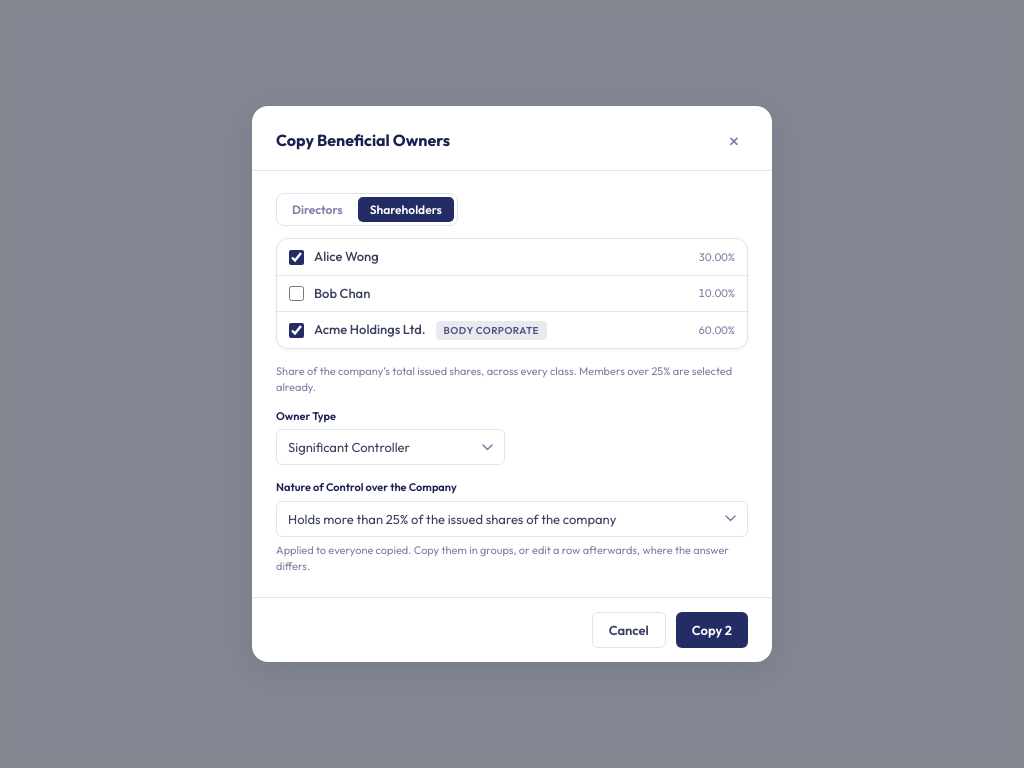
Test: CopyPartiesModal › switches to the directors, and defaults their control to influence
The image size is (1024, 768).
What coordinates should you click on to do the following:
click the tab "Directors"
I would click on:
 (317, 210)
Its box is [280,197,355,222].
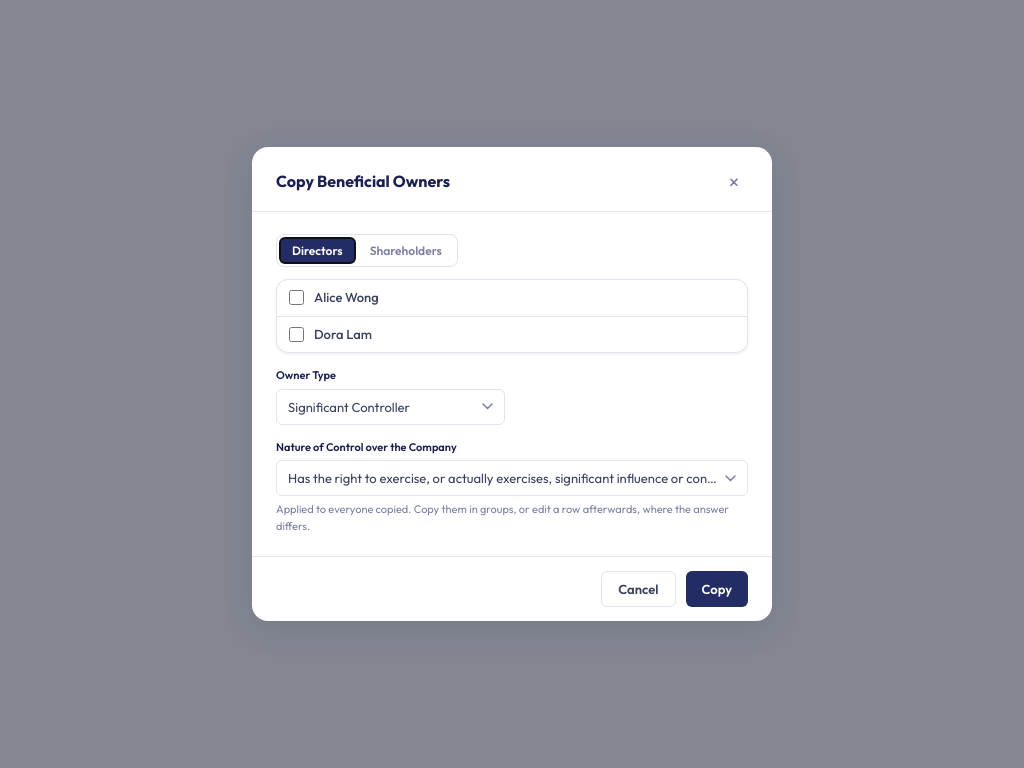
Expected: the checkbox labelled "Dora Lam" is not checked, [289,327,304,342]
Result: the text "Dora Lam" is shown at [314,324,372,344]
Result: the dropdown labelled "Nature of Control over the Company" shows "Has the right to exercise, or actually exercises, significant influence or contr" at [276,460,748,496]
